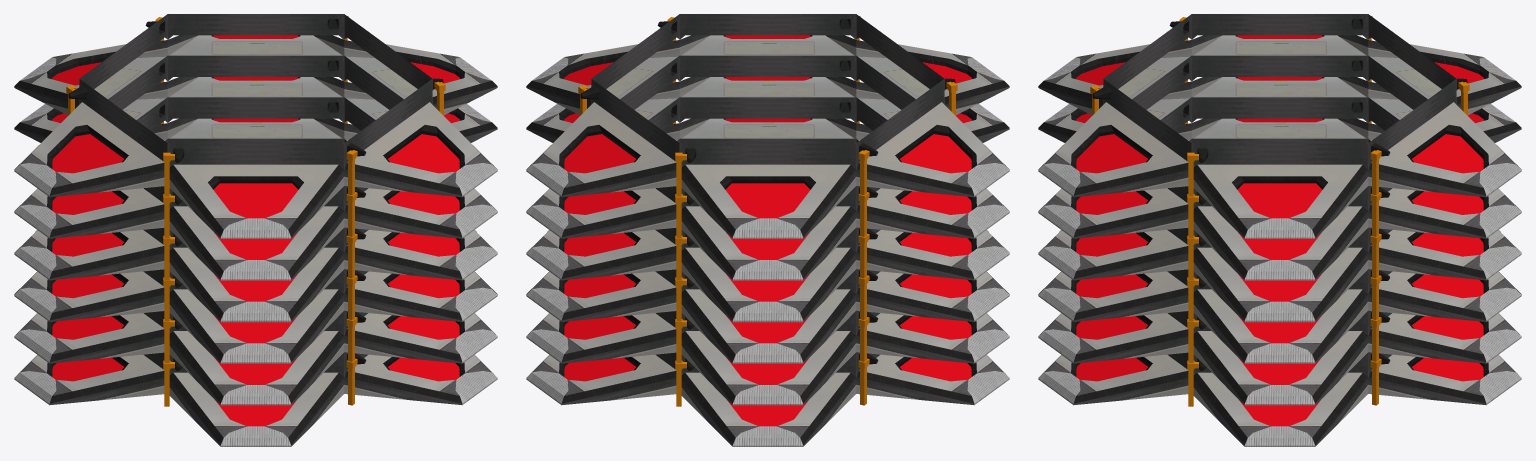
File: Ailettes.fbx
3 renders of one model, left to right at view 1: azimuth 30°, elevation 25°; view 2: azimuth 150°, elevation 25°; view 3: azimuth 270°, elevation 25°, orthographic.
Visible parts, largest first — view 1: Ailettes; view 2: Ailettes; view 3: Ailettes.
Boxes of the visible parts, x1,y1,x2,y2 form: Ailettes: (14, 14, 497, 446); Ailettes: (526, 14, 1009, 446); Ailettes: (1038, 14, 1521, 446).
Size of the model in its own units: 293 by 162 by 274.
